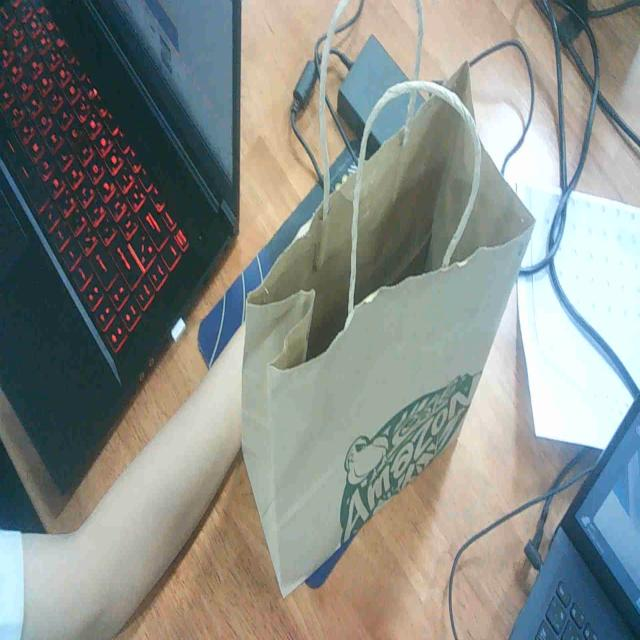bag: (223, 43, 555, 616)
